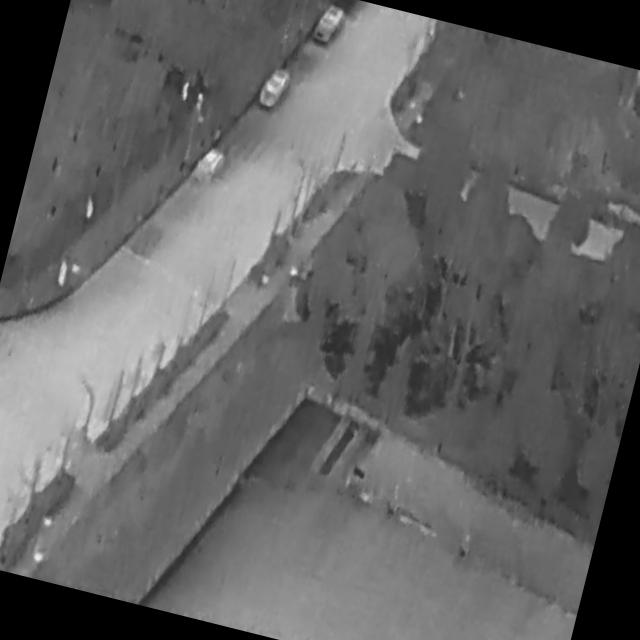person: (54, 259, 71, 290), (178, 78, 194, 105), (84, 194, 98, 220)
